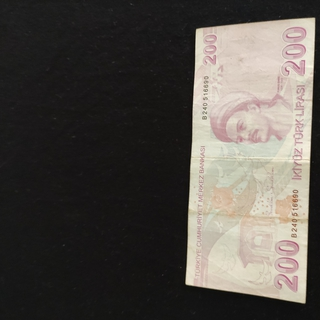200TLBack: (184, 16, 316, 304)
